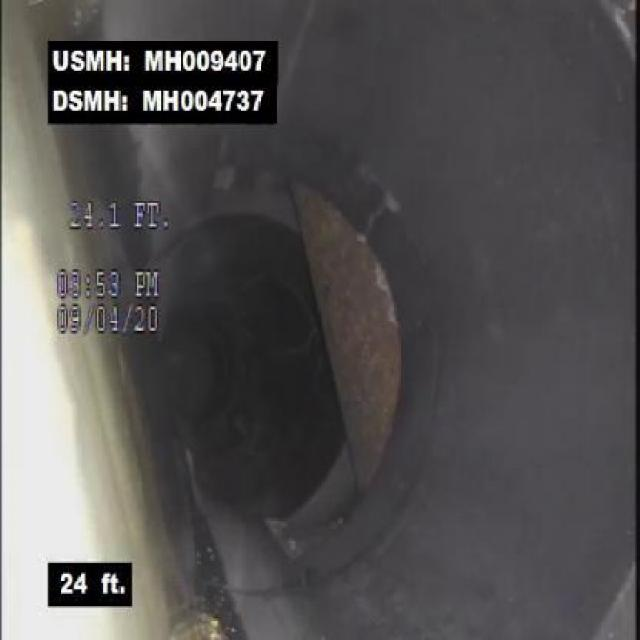Utility intrusion: (237, 146, 454, 525)
